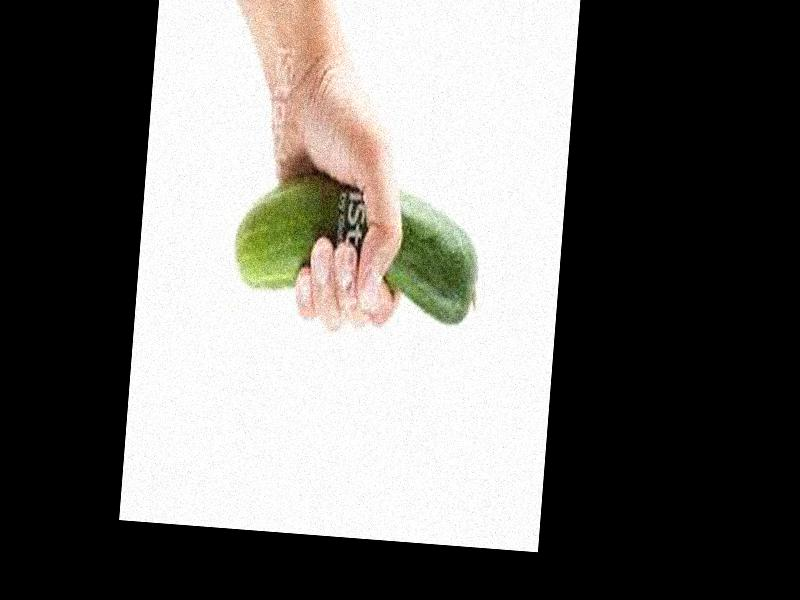Cucumber: (231, 167, 484, 329)
